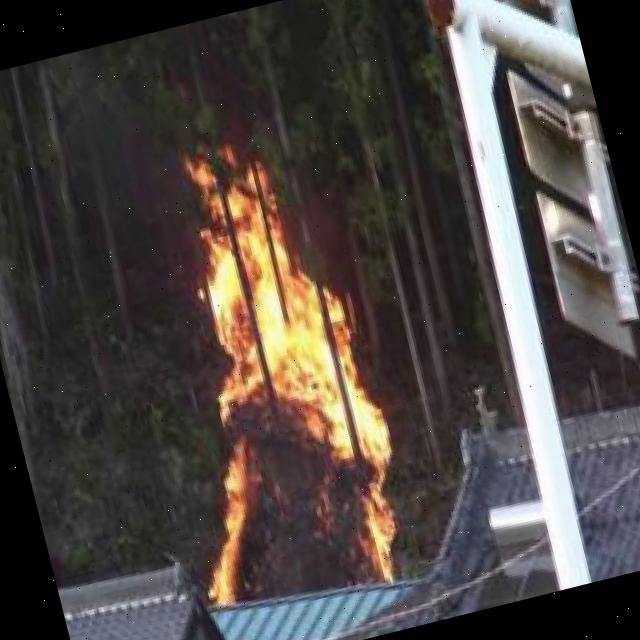fire: (110, 123, 418, 622)
